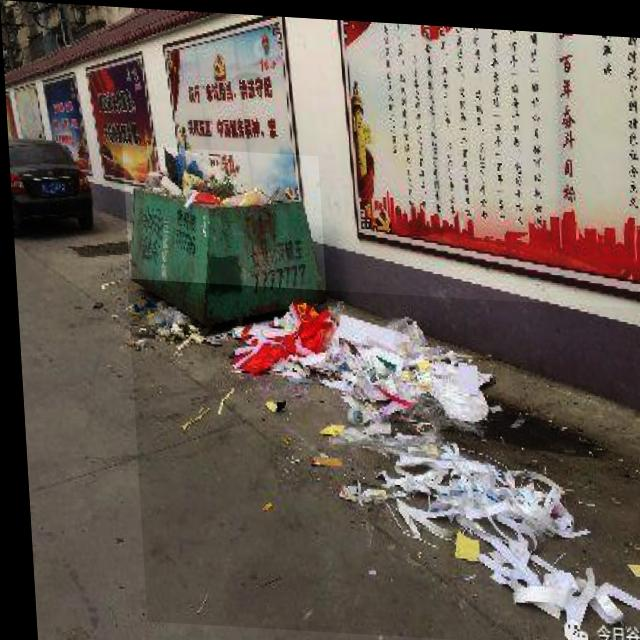garbage: (124, 277, 640, 640)
overflow: (120, 143, 325, 331)
